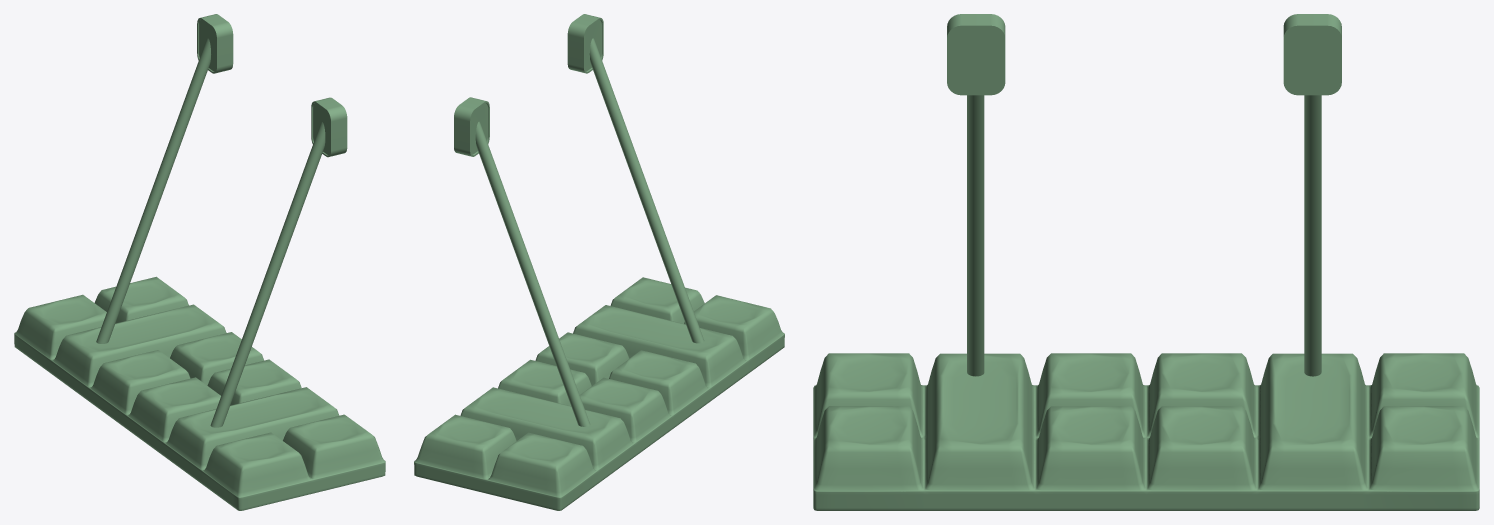
File: sm_bench.fbx
3 views of the same model, side by side, from view 1: azimuth 30°, elevation 25°; view 2: azimuth 150°, elevation 25°; view 3: azimuth 270°, elevation 25° (orthographic). The views are drawn at different scales.
Parts seen in each view (by area): view 1: sm_bench; view 2: sm_bench; view 3: sm_bench.
Boxes of the visible parts, x1=… form: sm_bench: x1=14, y1=14, x2=385, y2=510; sm_bench: x1=414, y1=14, x2=784, y2=510; sm_bench: x1=813, y1=14, x2=1479, y2=510.
Size of the model in its own units: 10.42 by 21.52 by 26.5.
